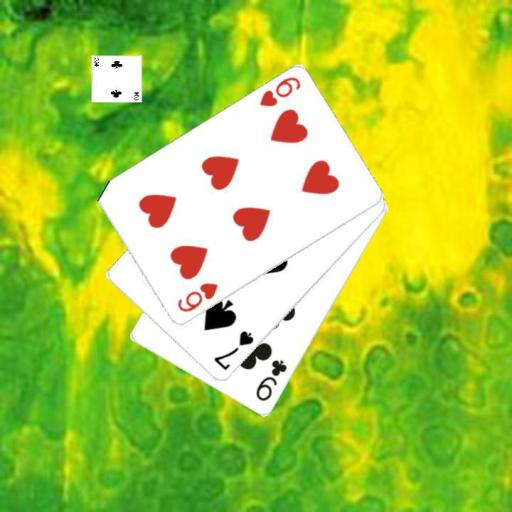6H: (256, 74, 302, 109), (174, 280, 219, 315)
7S: (211, 328, 256, 373)
9C: (252, 356, 289, 403)
